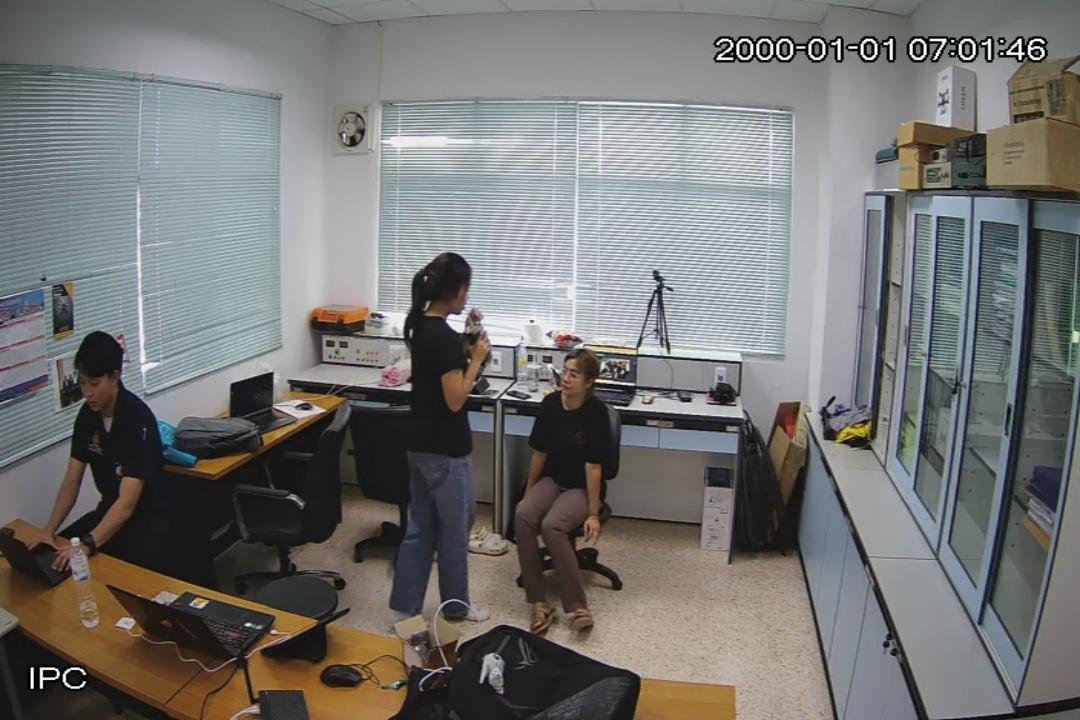normal: (389, 251, 490, 618), (49, 326, 168, 572), (523, 351, 607, 628)
